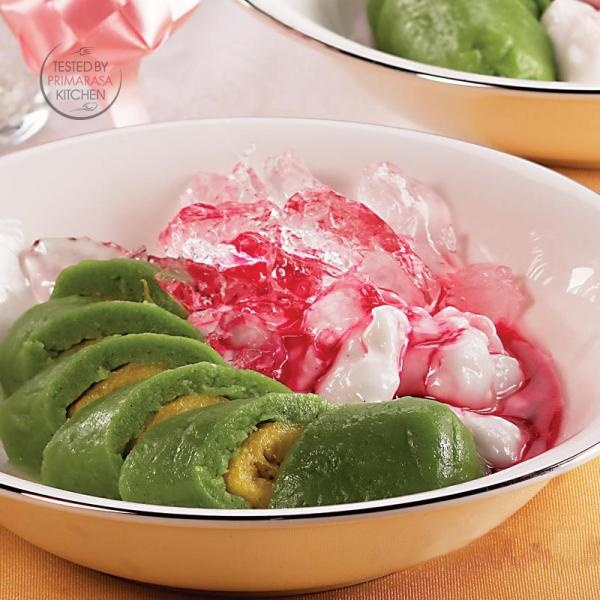es_pisang_ijo: (1, 182, 567, 510)
